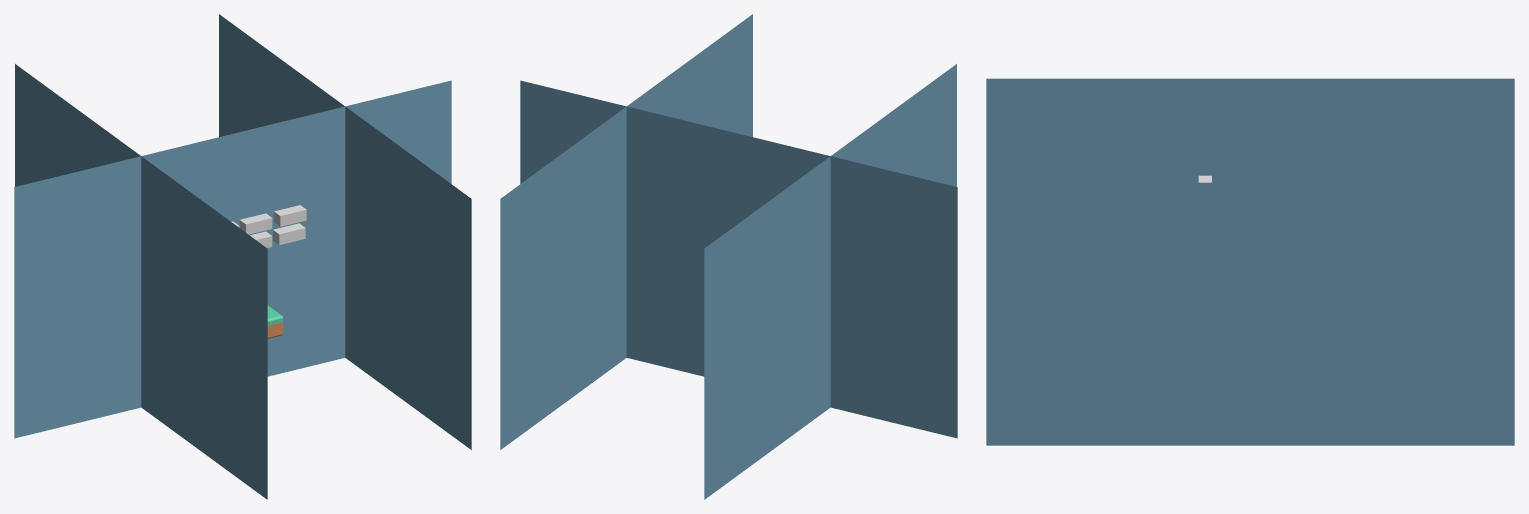
The picture shows the model from 3 angles, left to right: view 1: azimuth 30°, elevation 25°; view 2: azimuth 150°, elevation 25°; view 3: azimuth 270°, elevation 25°; orthographic projection. The views are drawn at different scales.
Parts seen in each view (by area): view 1: Plane, Plane.002, Plane.001, Cube.006, Cube.002, Cube.005; view 2: Plane, Plane.002, Plane.001; view 3: Plane.001, Plane.002.
Part boxes in pixels (x1,y1,x2,y2): Plane: (14, 80, 451, 438); Plane.002: (15, 64, 267, 499); Plane.001: (219, 14, 471, 449); Cube.006: (274, 205, 306, 226); Cube.002: (273, 223, 305, 245); Cube.005: (239, 213, 272, 234); Plane: (520, 80, 957, 438); Plane.002: (704, 64, 956, 499); Plane.001: (500, 14, 752, 449); Plane.001: (986, 182, 1514, 445); Plane.002: (986, 78, 1514, 182).
Bounding box in the file's own units: 75.03 × 41.21 × 75.03.
